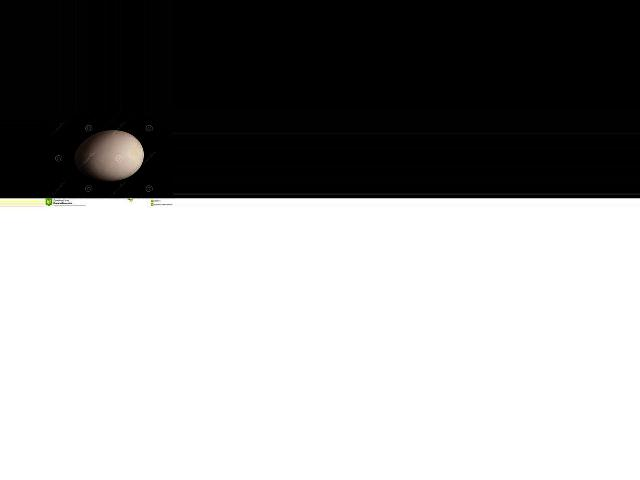egg: (74, 130, 144, 181)
